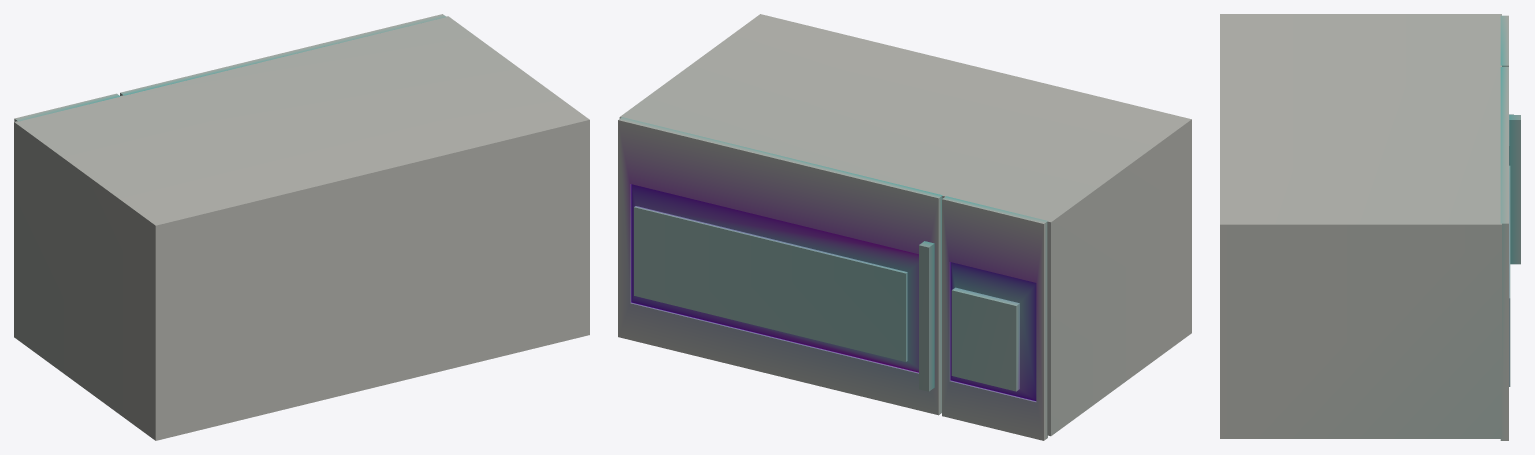
3 views of the same model, side by side, from view 1: azimuth 30°, elevation 25°; view 2: azimuth 150°, elevation 25°; view 3: azimuth 270°, elevation 25° (orthographic).
Parts seen in each view (by area): view 1: case, broad_panel; view 2: case, broad_panel, narrow_panel, vertical_bar; view 3: case, broad_panel, vertical_bar, narrow_panel.
Boxes of the visible parts, <box> form: case: <box>14,16,589,440</box>; broad_panel: <box>120,14,446,95</box>; case: <box>619,14,1191,436</box>; broad_panel: <box>618,117,942,415</box>; narrow_panel: <box>942,196,1047,440</box>; vertical_bar: <box>919,241,934,391</box>; case: <box>1220,14,1501,438</box>; broad_panel: <box>1500,67,1510,440</box>; vertical_bar: <box>1509,115,1520,264</box>; narrow_panel: <box>1500,15,1513,165</box>.
Bounding box in the file's own units: 0.6015 × 0.289 × 0.3628.
